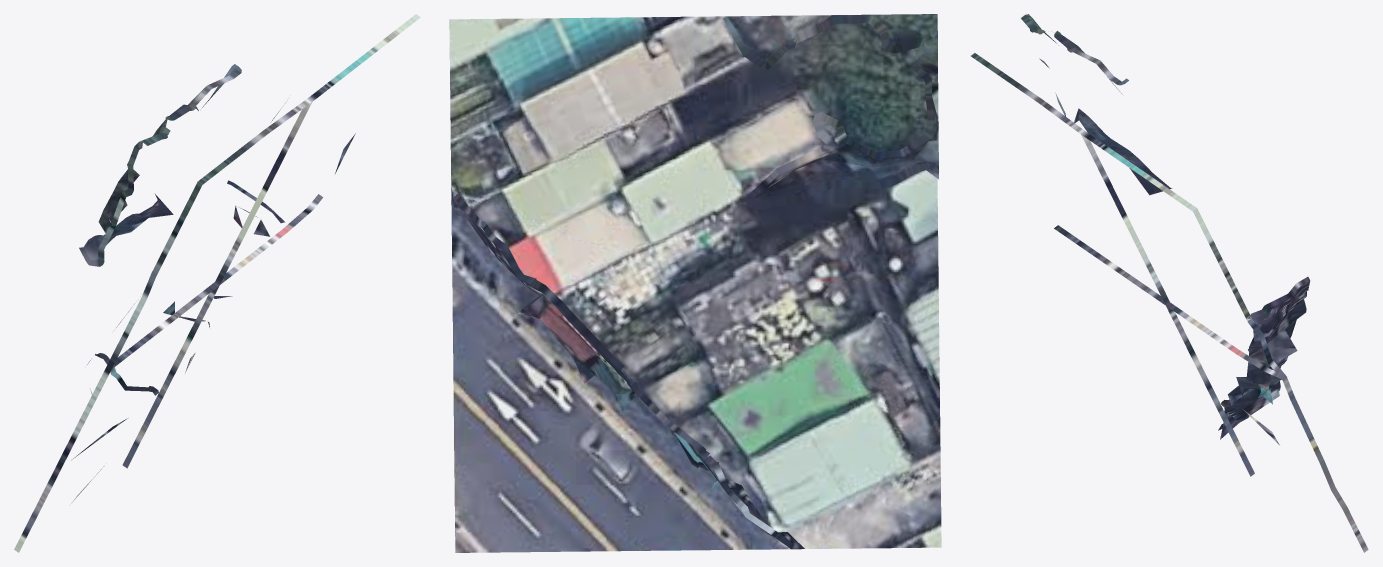
3 views of the same model, side by side, from view 1: azimuth 30°, elevation 25°; view 2: azimuth 150°, elevation 25°; view 3: azimuth 270°, elevation 25° (orthographic). The views are drawn at different scales.
Bounding box in the file's own units: 38.19 × 37.16 × 32.2.
1 material, 1 textured.
